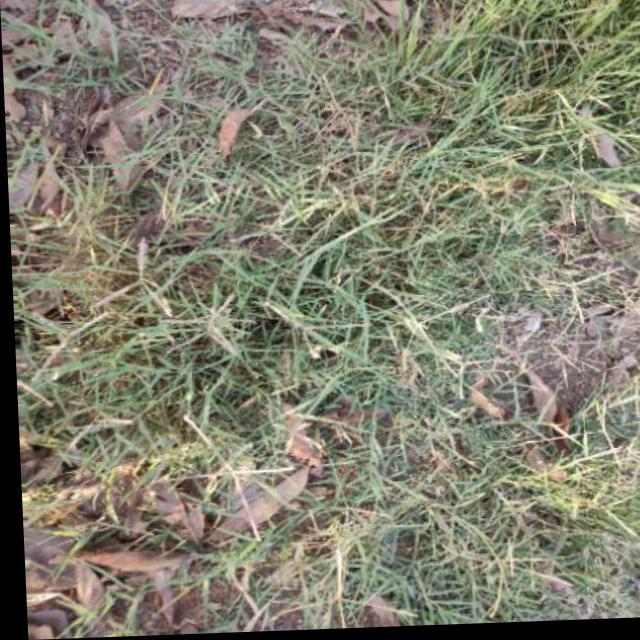weed: (94, 68, 632, 613)
